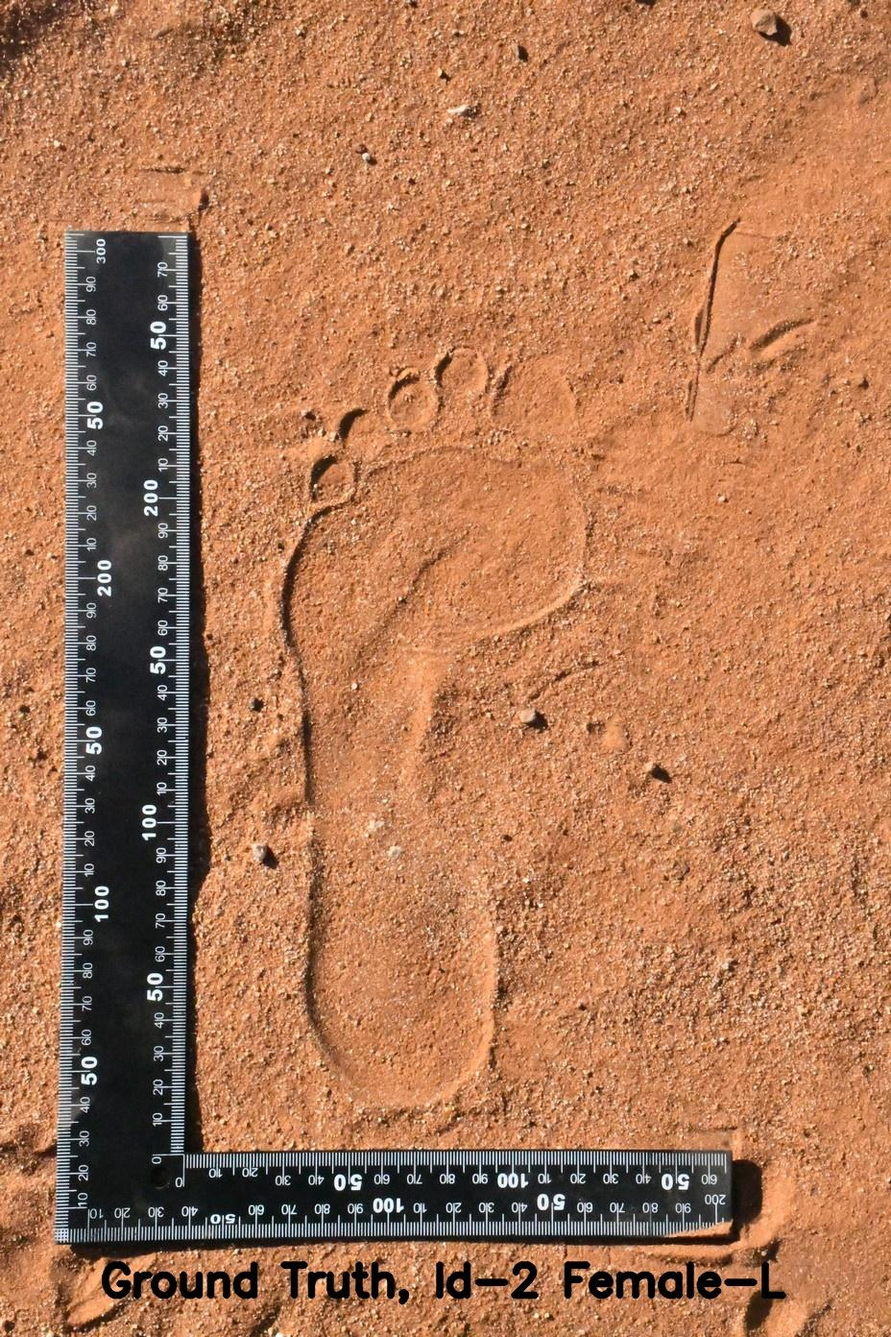human_footprint: (221, 324, 650, 1130)
